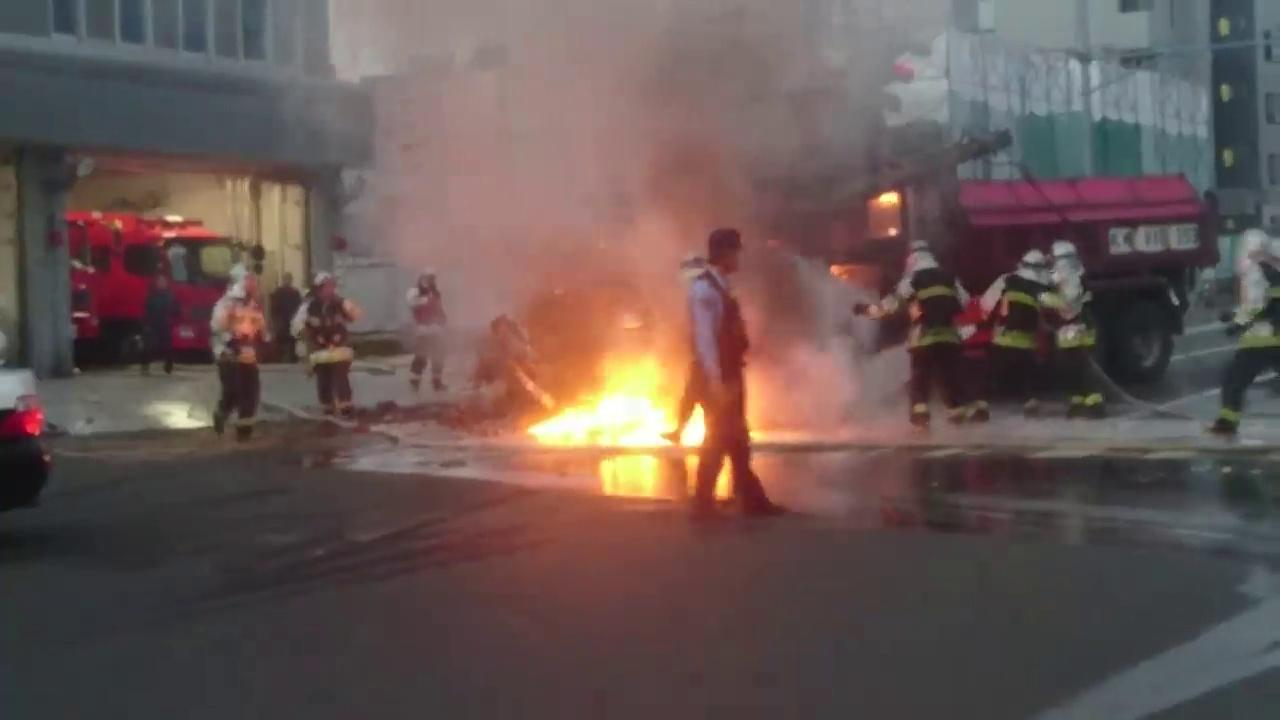fire: (555, 368, 696, 451)
smoke: (408, 16, 857, 329)
